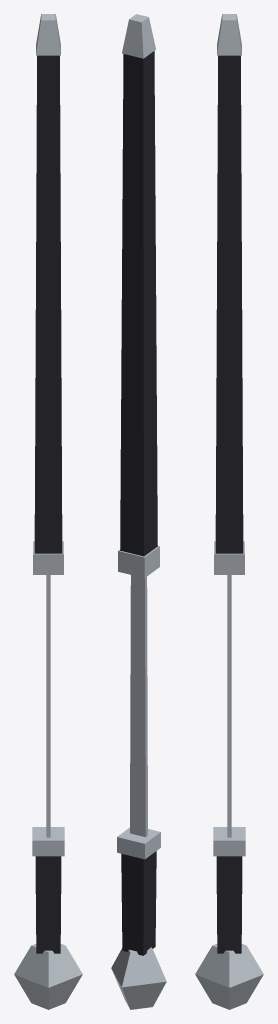
File: SM_Prop_SwordCane_LQ.glb
The picture shows the model from 3 angles, left to right: view 1: azimuth 90°, elevation 25°; view 2: azimuth 150°, elevation 25°; view 3: azimuth 270°, elevation 25°; orthographic projection.
Visible parts, largest first — view 1: SM_Prop_SwordCane_LQ; view 2: SM_Prop_SwordCane_LQ; view 3: SM_Prop_SwordCane_LQ.
Boxes of the visible parts, left/top/right/bottom form: SM_Prop_SwordCane_LQ: left=14, top=14, right=82, bottom=1009; SM_Prop_SwordCane_LQ: left=111, top=14, right=166, bottom=1009; SM_Prop_SwordCane_LQ: left=195, top=14, right=263, bottom=1009.
Bounding box in the file's own units: 0.056 × 0.9477 × 0.06.
Materials: 1 (1 with a texture image).
